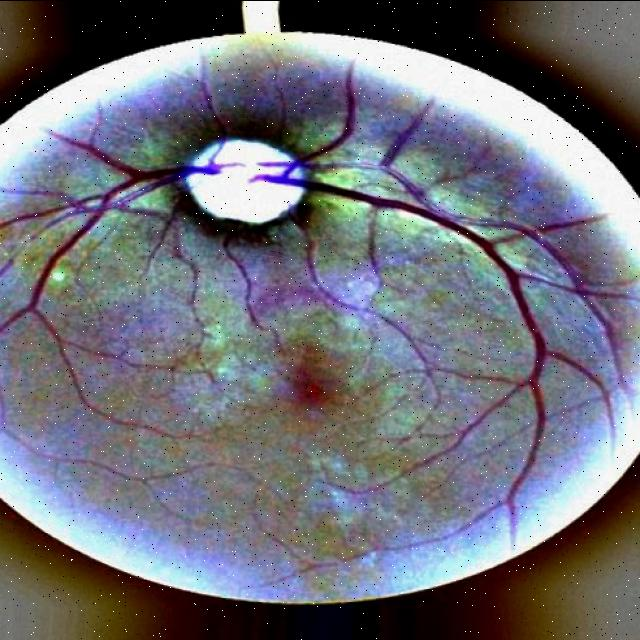Macula: (284, 348, 347, 411)
Nerves: (253, 168, 621, 521), (25, 159, 199, 370), (279, 216, 435, 389), (221, 221, 284, 356)
Optic Disk: (174, 119, 321, 246)
